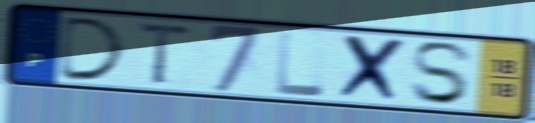7: (205, 21, 265, 96)
D: (55, 15, 131, 83)
L: (274, 29, 328, 99)
S: (407, 40, 477, 107)
T: (134, 20, 196, 86)
X: (333, 32, 410, 106)
